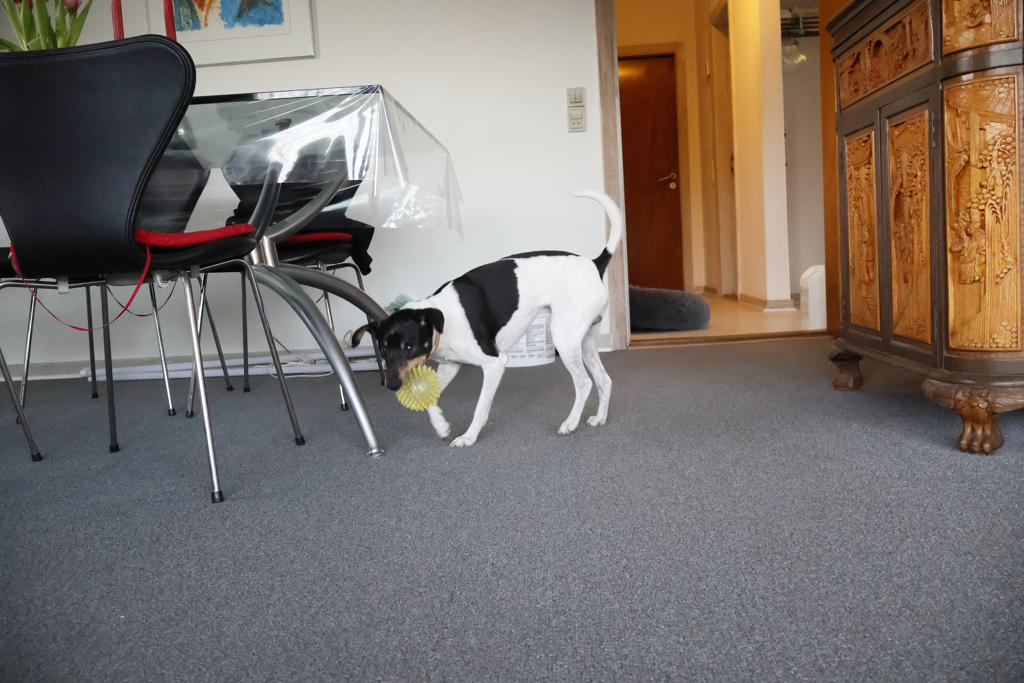Dog: (339, 182, 630, 454)
